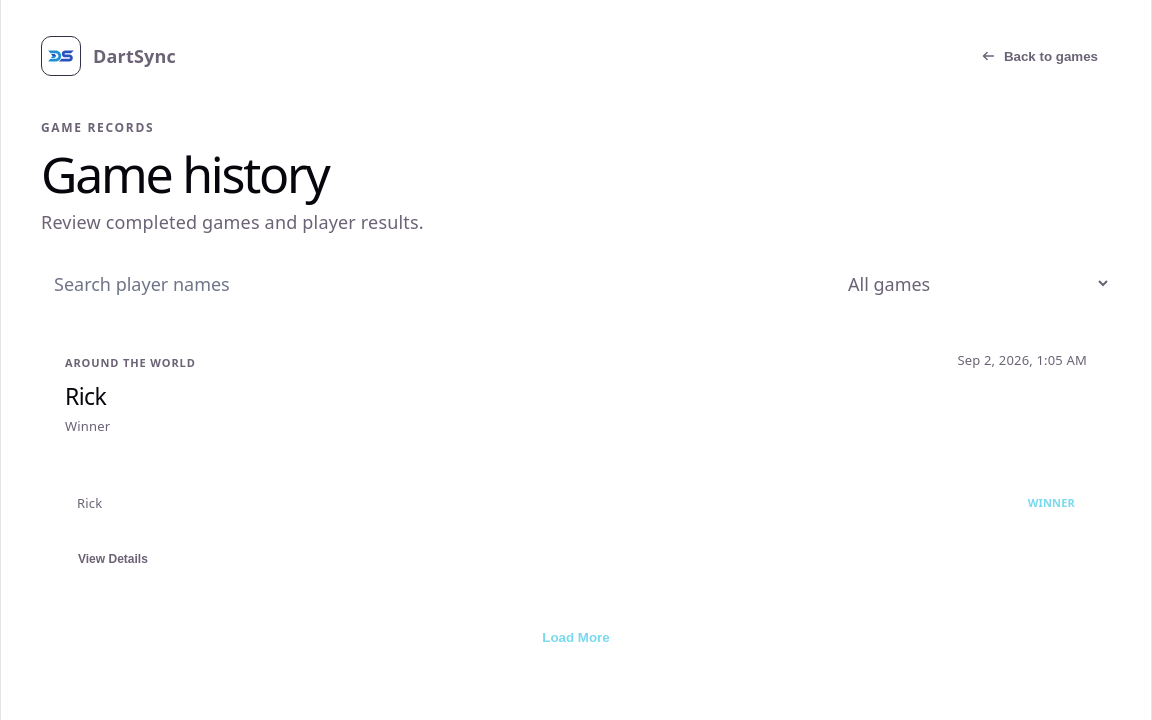
Scenario: loads additional history pages
The width and height of the screenshot is (1152, 720).
(page scrolled)
Expected: the heading "Rick" is shown, [65,380,106,412]
What coordinates should you click on to do the following:
click the button "Load More"
I would click on:
 (576, 637)
Its box is [506,619,646,656].
(page scrolled)
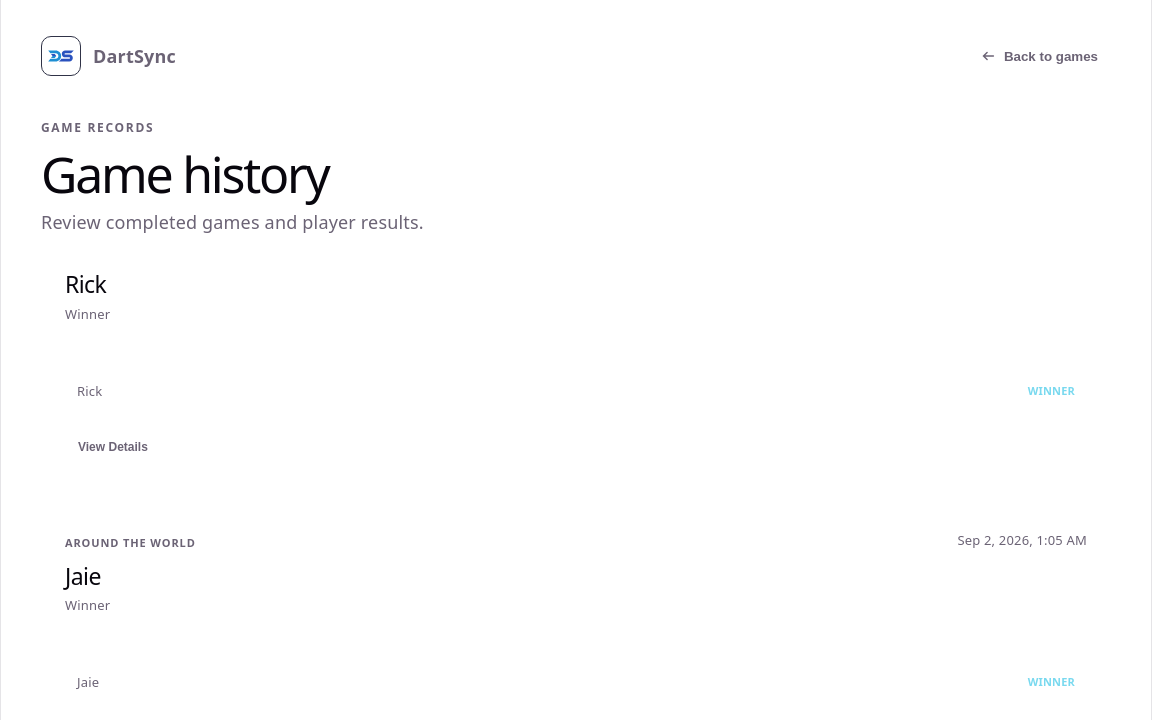
Now the heading "Jaie" is shown, box [65,560,101,592]
Now the element named "2 completed games" is shown, box [41,269,1111,719]
Now the button "Load More" is gone
